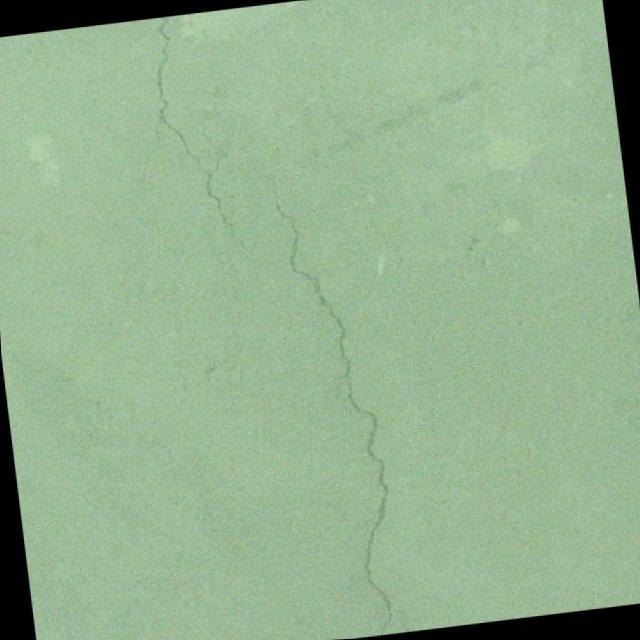crack: (258, 161, 412, 640), (122, 14, 205, 182), (197, 126, 264, 274), (0, 262, 98, 315), (120, 184, 148, 217)
